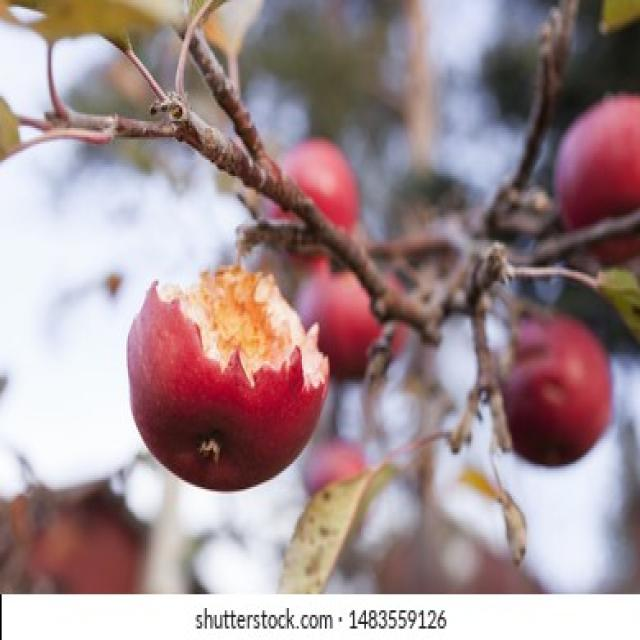apple_fruit: (120, 253, 350, 506)
